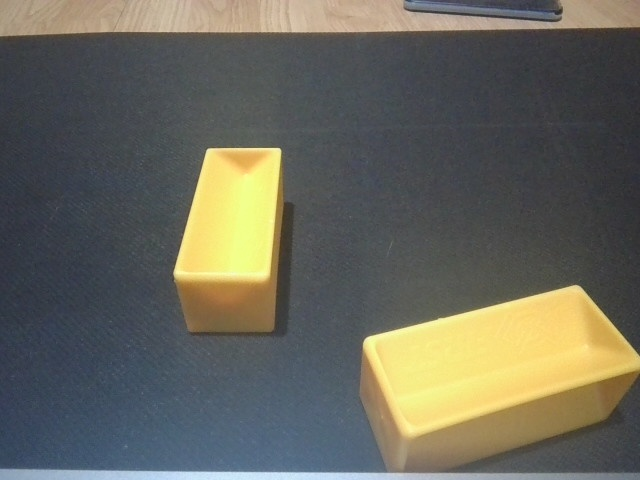YellowSample: (353, 281, 640, 474), (166, 139, 297, 340)
